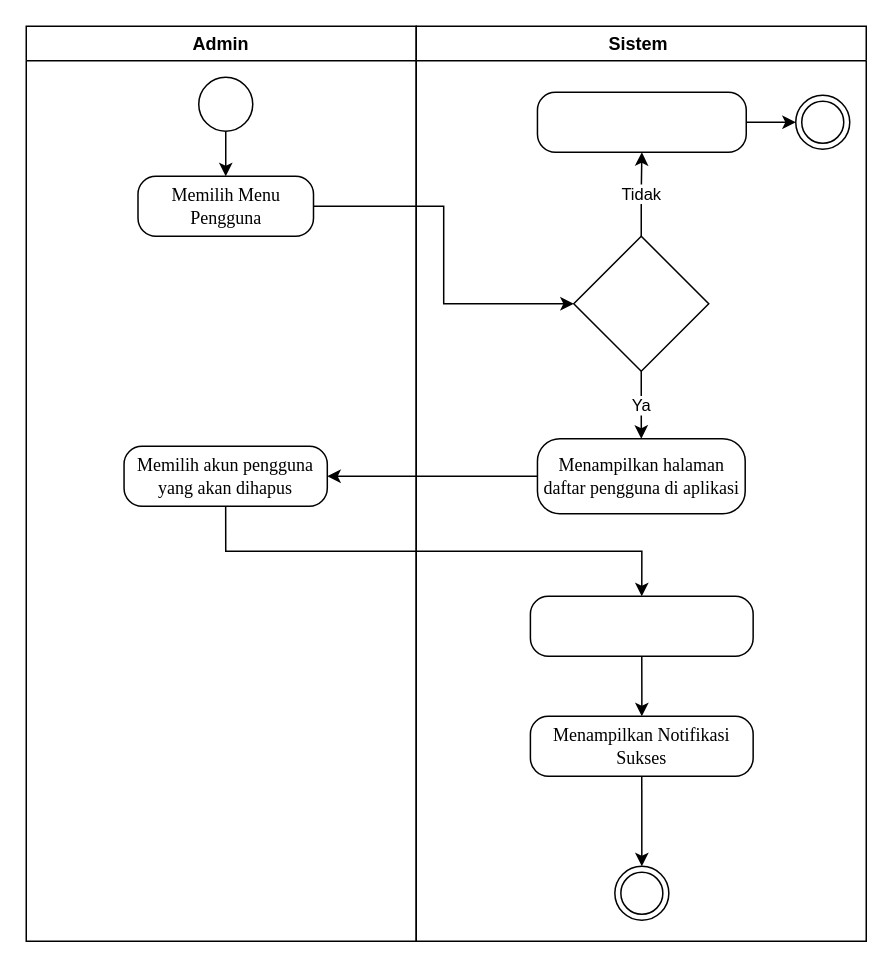
Some shapes in this 893 by 968 pixel diagram are drawn without their labels. Each missing label, with the centre of its shape:
apakah akun admin?: point 640,303
Menampilkan Halaman "403 - Forbidden": point 641,121
Menghapus Akun Pengguna yang dipilih: point 641,625
